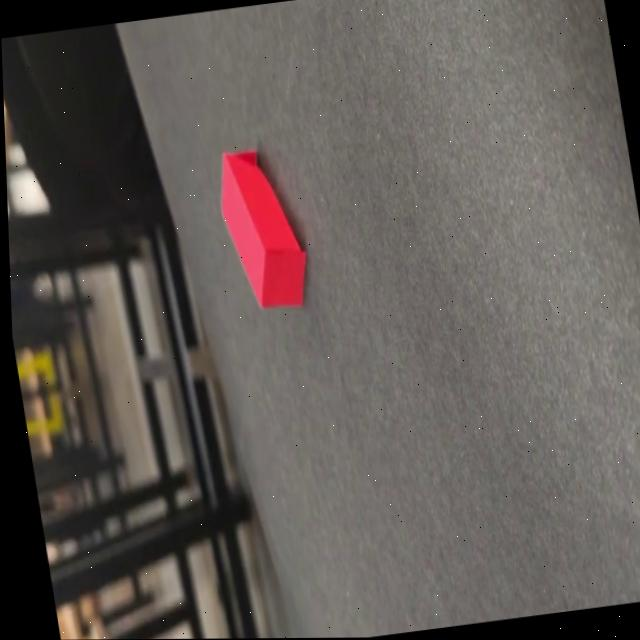red block: (209, 142, 315, 316)
